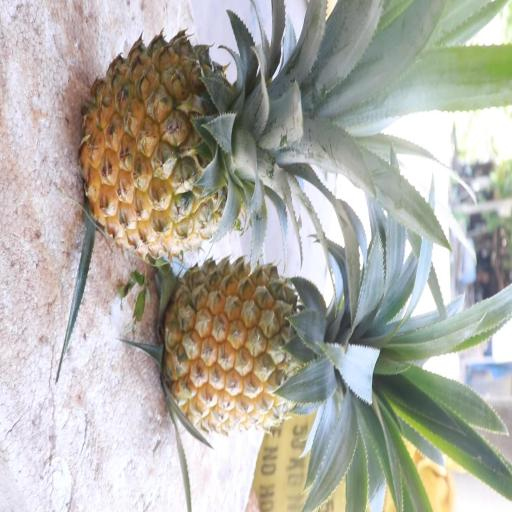Pineapple - v8 v1: (76, 28, 323, 266), (158, 251, 389, 443)
